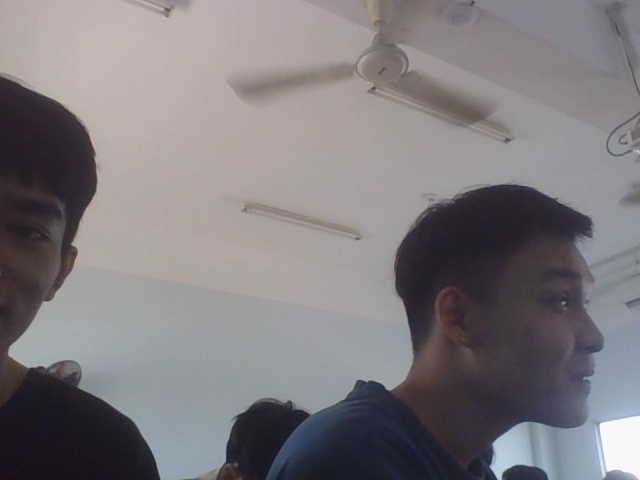real: (439, 184, 611, 428)
